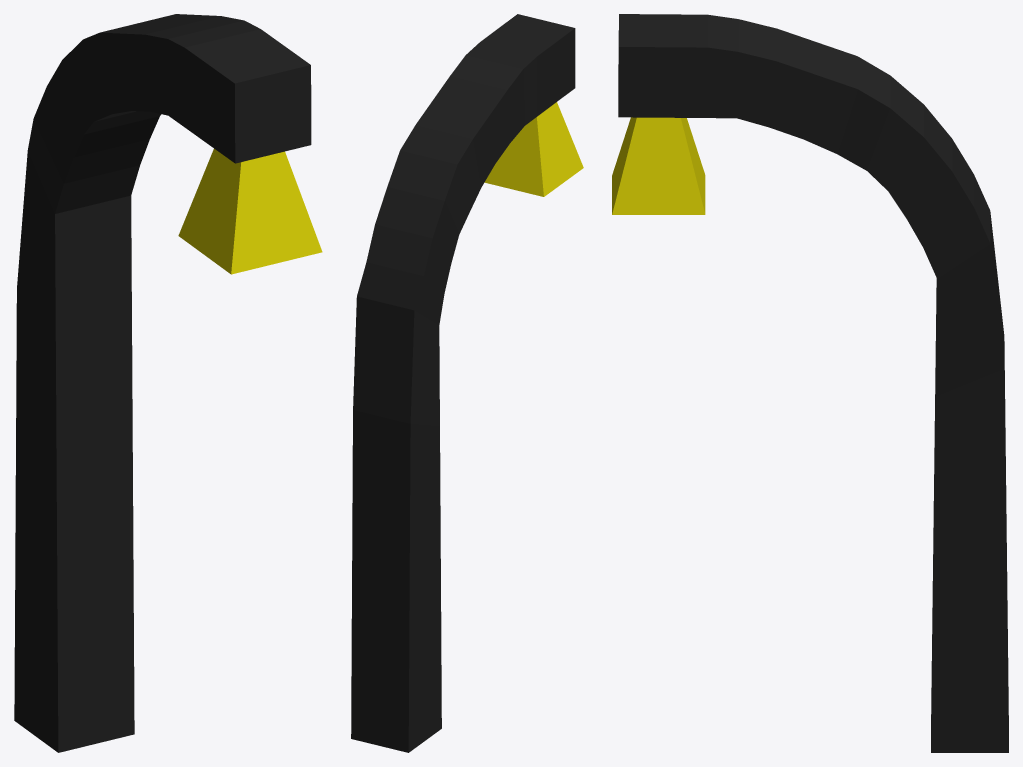
The model's file is Lamp Pole (model).fbx.
The picture shows the model from 3 angles, left to right: view 1: azimuth 30°, elevation 25°; view 2: azimuth 150°, elevation 25°; view 3: azimuth 270°, elevation 25°; orthographic projection. The views are drawn at different scales.
Parts seen in each view (by area): view 1: Lamp Pole; view 2: Lamp Pole; view 3: Lamp Pole.
Part boxes in pixels (x1,y1,x2,y2): Lamp Pole: (14, 14, 322, 752); Lamp Pole: (351, 14, 583, 752); Lamp Pole: (612, 14, 1008, 752).
Bounding box in the file's own units: 24 × 200 × 102.
